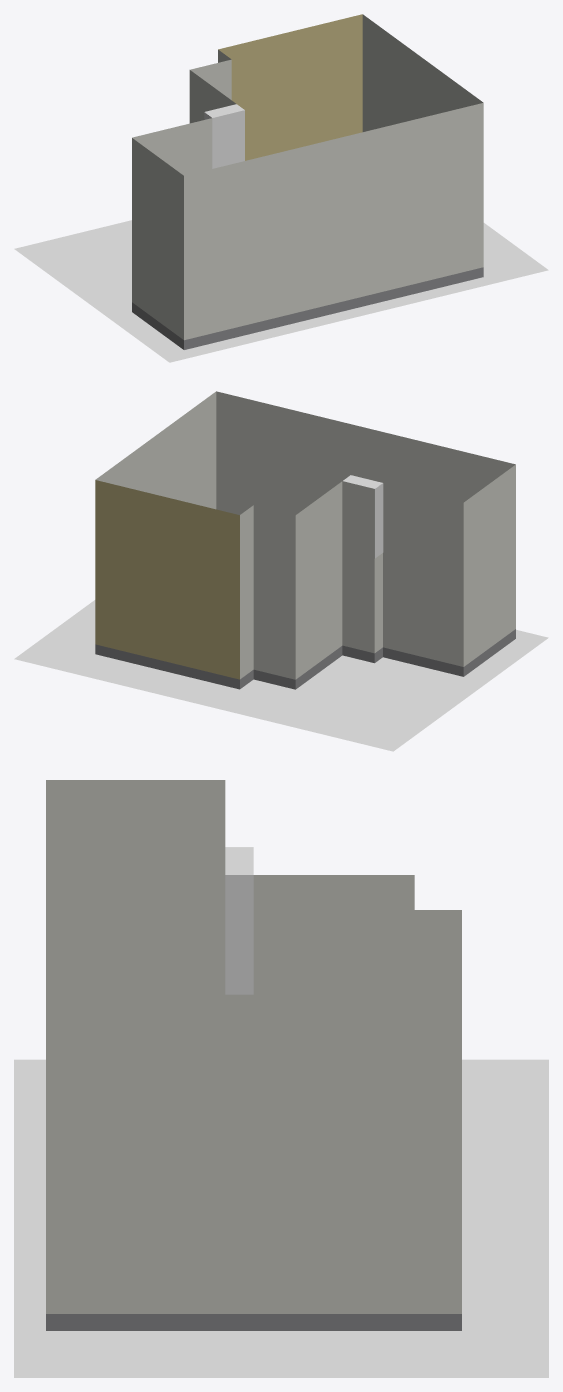
Rendered from RigshospitaletStue.fbx.
The picture shows the model from 3 angles, top to bottom: view 1: azimuth 30°, elevation 25°; view 2: azimuth 150°, elevation 25°; view 3: azimuth 270°, elevation 25°; orthographic projection. The views are drawn at different scales.
Parts seen in each view (by area): view 1: Plane.001, Plane, Plane.003; view 2: Plane.001, Plane, Plane.003; view 3: Plane.001, Plane, Plane.003.
Boxes of the visible parts, bbox=[...] form: Plane.001: bbox=[132, 14, 483, 349]; Plane: bbox=[14, 220, 548, 362]; Plane.003: bbox=[204, 104, 244, 168]; Plane.001: bbox=[95, 391, 515, 689]; Plane: bbox=[14, 600, 548, 751]; Plane.003: bbox=[343, 475, 383, 558]; Plane.001: bbox=[46, 780, 461, 1330]; Plane: bbox=[14, 1059, 548, 1377]; Plane.003: bbox=[225, 848, 253, 994].
Bounding box in the file's own units: 797 × 350 × 566.
